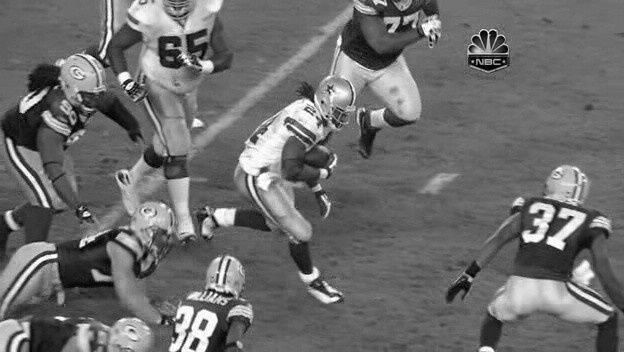person: (318, 78, 353, 127), (317, 78, 352, 127), (319, 78, 354, 127), (318, 77, 353, 126), (318, 79, 353, 128)
target_negative: (62, 183, 458, 303), (310, 230, 410, 343), (532, 212, 597, 313), (461, 84, 567, 131), (350, 168, 414, 210), (43, 340, 148, 352)
